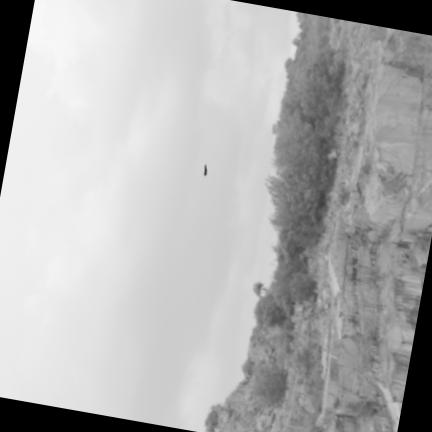Shahed: (204, 164, 207, 175)
